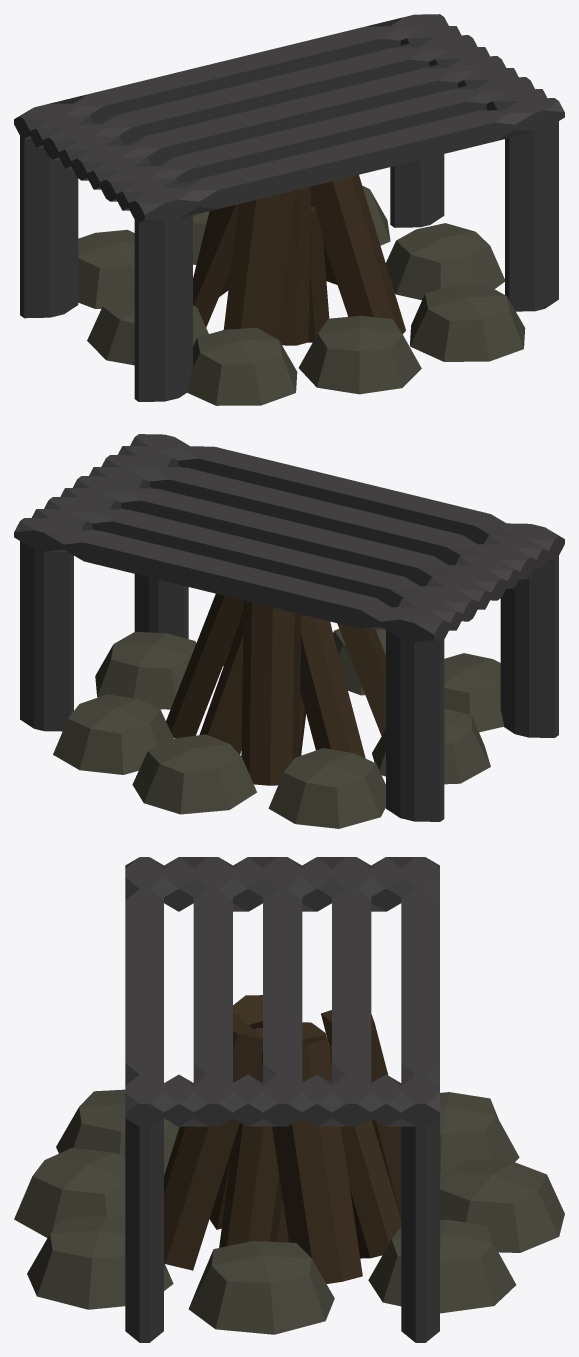
File: BonfireBBQ.fbx
3 renders of one model, top to bottom at view 1: azimuth 30°, elevation 25°; view 2: azimuth 150°, elevation 25°; view 3: azimuth 270°, elevation 25°, orthographic. The views are drawn at different scales.
Parts seen in each view (by area): view 1: BonfireBBQ; view 2: BonfireBBQ; view 3: BonfireBBQ.
Boxes of the visible parts, left/top/right/bottom form: BonfireBBQ: left=14, top=14, right=564, bottom=405; BonfireBBQ: left=14, top=434, right=564, bottom=828; BonfireBBQ: left=14, top=857, right=564, bottom=1342.
Bounding box in the file's own units: 93.19 × 48.63 × 87.91.
